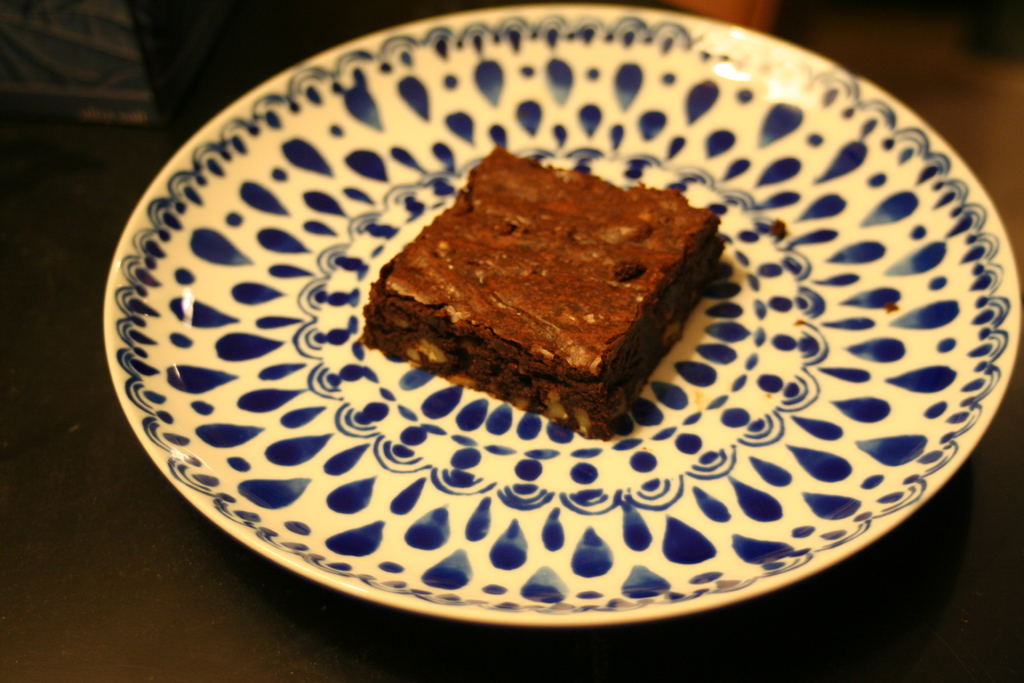cake: (356, 145, 723, 436)
